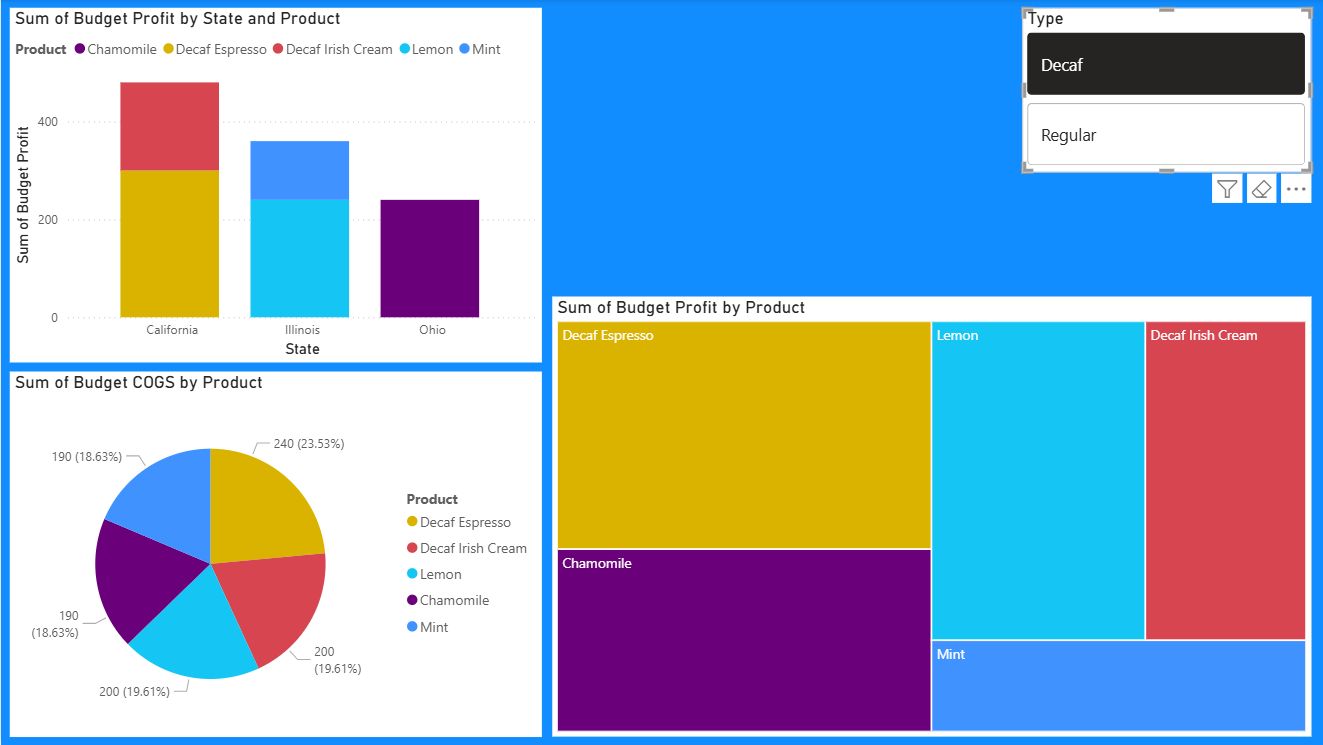

The page's visual inventory and layout, read from the dashboard file:
{"tool":"powerbi","page":{"name":"Page 1","canvas":[1280,720],"ordinal":0},"visuals":[{"type":"columnChart","fields":{"Category":["Area.State"],"Y":["Sum(Sales.Budget Profit)"],"Series":["Products.Product"]},"box":[8.8,8.8,513.8,342.5],"z":0},{"type":"pieChart","fields":{"Y":["Sum(Sales.Budget COGS)"],"Category":["Products.Product"]},"box":[8.8,360,513.8,352.5],"z":1000},{"type":"treemap","fields":{"Values":["Sum(Sales.Budget Profit)"],"Group":["Products.Product"]},"box":[532.5,287.5,732.5,425],"z":2000},{"type":"advancedSlicerVisual","fields":{"Values":["Products.Type"]},"box":[986.2,8.8,278.8,158.8],"z":3000}]}

Visuals, with their boxes in screenshot pixels (x1, y1, x2, y2), scaled from the page's 1280x720 canvas onto the 1323x745 screenshot:
columnChart - Area.State x Sum(Sales.Budget Profit): <bbox>9, 9, 540, 363</bbox>
pieChart - Sum(Sales.Budget COGS) x Products.Product: <bbox>9, 373, 540, 737</bbox>
treemap - Sum(Sales.Budget Profit) x Products.Product: <bbox>550, 297, 1307, 737</bbox>
advancedSlicerVisual - Products.Type: <bbox>1019, 9, 1307, 173</bbox>
